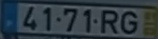1: (41, 6, 51, 32), (82, 8, 91, 33)
4: (21, 5, 38, 32)
7: (62, 7, 78, 33)
G: (119, 9, 139, 35)
R: (99, 9, 119, 34)
